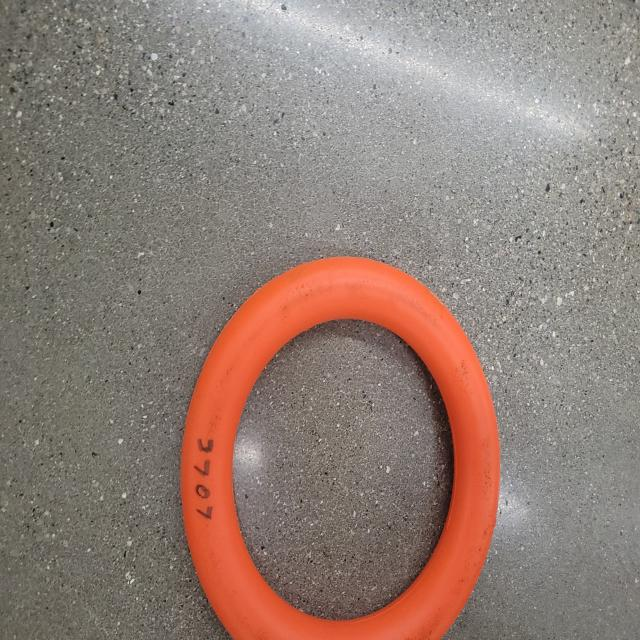note: (159, 248, 530, 640)
